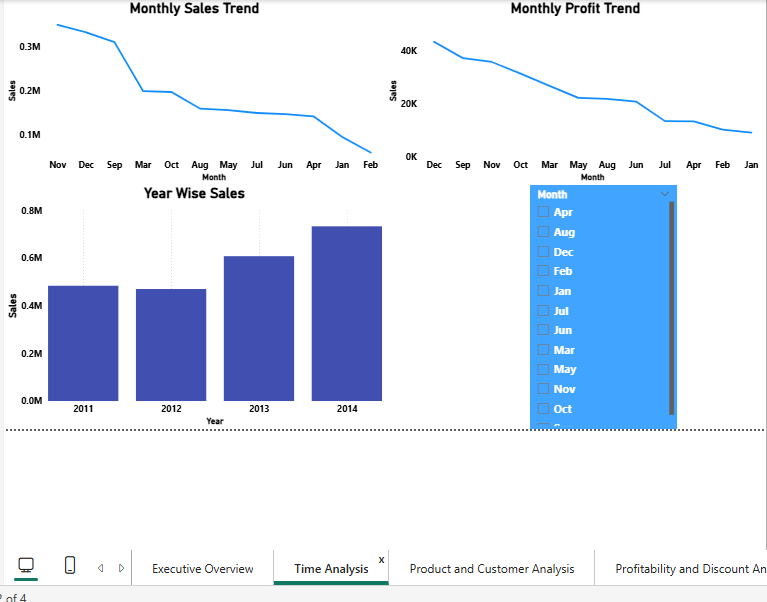

This screenshot's page, from the dashboard's own definition file:
{"tool":"powerbi","page":{"name":"Time Analysis","canvas":[1280,720],"ordinal":1},"visuals":[{"type":"lineChart","title":"Monthly Sales Trend","fields":{"Y":["Sum(Retail.Sales)"],"Category":["Retail.Month"]},"box":[0,0,640,310.8],"z":0},{"type":"lineChart","title":"Monthly Profit Trend","fields":{"Category":["Retail.Month"],"Y":["Sum(Retail.Profit)"]},"box":[640,0,640,310.8],"z":1},{"type":"columnChart","title":"Year Wise Sales","fields":{"Y":["Sum(Retail.Sales)"],"Category":["Retail.Year"]},"box":[0,310.8,640,409.9],"z":2},{"type":"slicer","fields":{"Values":["Retail.Month"]},"box":[883.6,310.8,246.9,409.9],"z":3}]}

Visuals, with their boxes on the page's 1280x720 design canvas (x1, y1, x2, y2). These are canvas units, not pixel positions in the 767x602 screenshot, which may show the page scaled, cropped or inside an application window:
"Monthly Sales Trend" lineChart: [left=0, top=0, right=640, bottom=311]
"Monthly Profit Trend" lineChart: [left=640, top=0, right=1280, bottom=311]
"Year Wise Sales" columnChart: [left=0, top=311, right=640, bottom=721]
slicer - Retail.Month: [left=884, top=311, right=1130, bottom=721]
